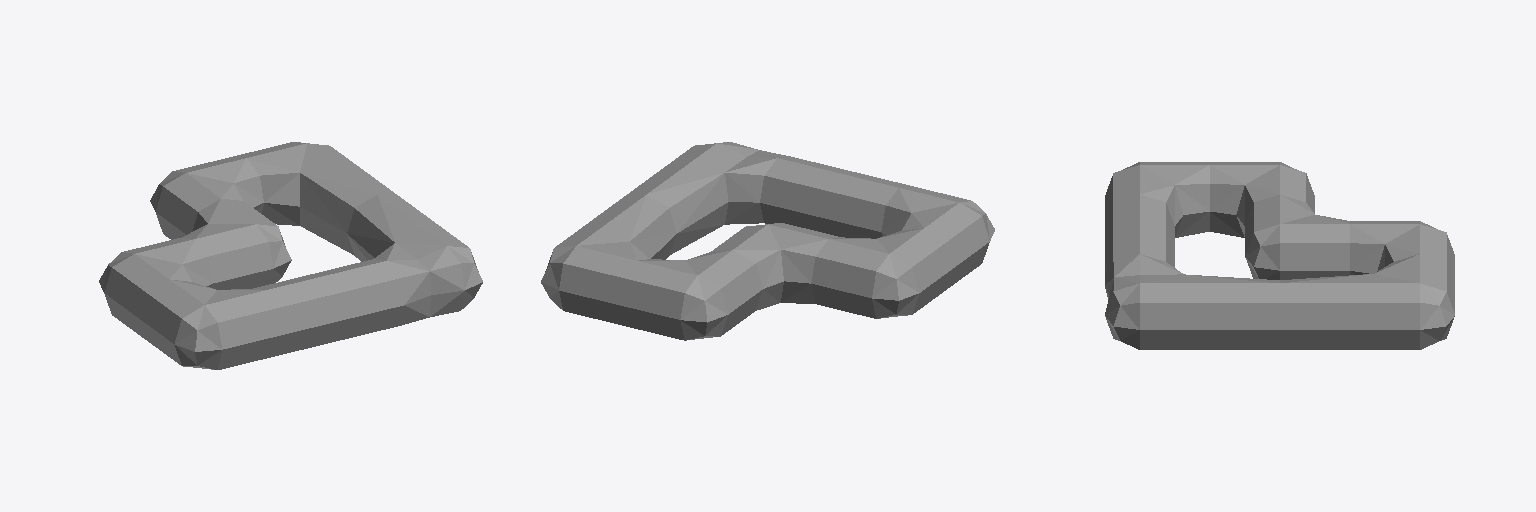
The model's file is cloudheart.obj.
The picture shows the model from 3 angles: view 1: azimuth 30°, elevation 25°; view 2: azimuth 150°, elevation 25°; view 3: azimuth 270°, elevation 25°; orthographic projection.
Parts seen in each view (by area): view 1: Cube.001; view 2: Cube.001; view 3: Cube.001.
Boxes of the visible parts, x1,y1,x2,y2 form: Cube.001: [99, 142, 482, 369]; Cube.001: [541, 142, 994, 340]; Cube.001: [1105, 162, 1454, 349].
Bounding box in the file's own units: 5 × 1 × 5.